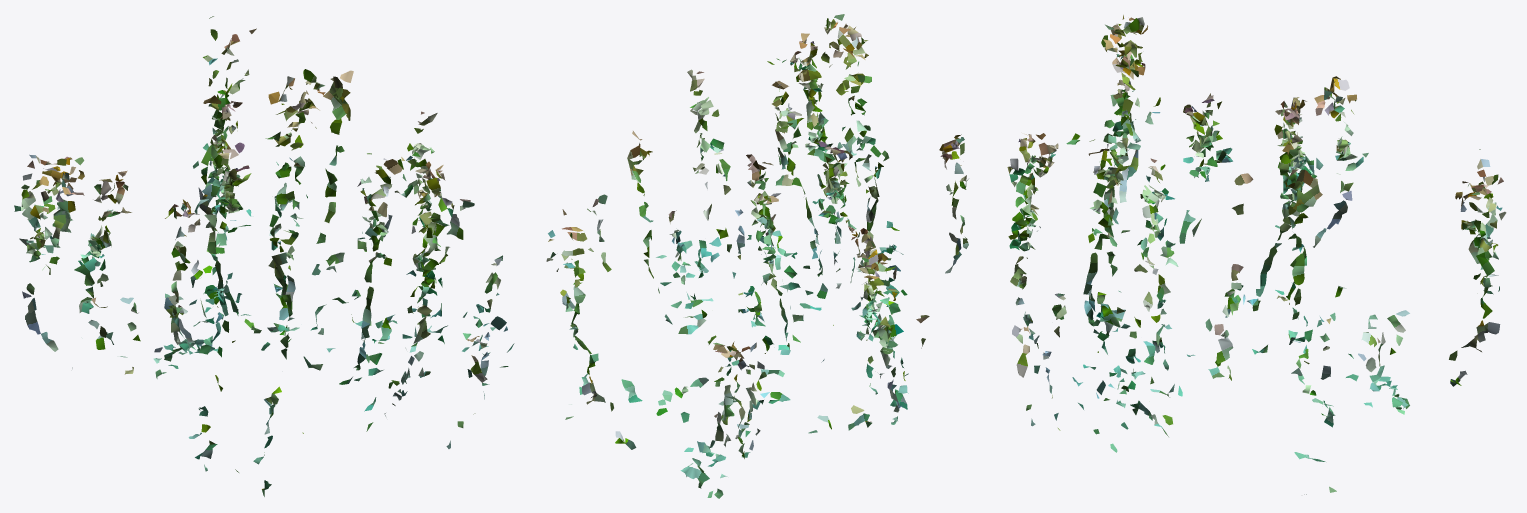
File: euphorbia_dis.obj
The picture shows the model from 3 angles, left to right: view 1: azimuth 30°, elevation 25°; view 2: azimuth 150°, elevation 25°; view 3: azimuth 270°, elevation 25°; orthographic projection. The views are drawn at different scales.
Bounding box in the file's own units: 2.2 × 2.33 × 2.51.
1 material, 1 textured.
